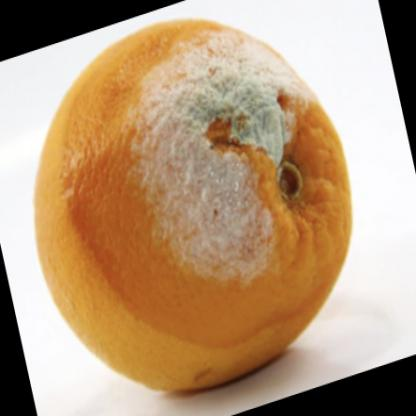rotten_orange: (29, 19, 360, 402)
